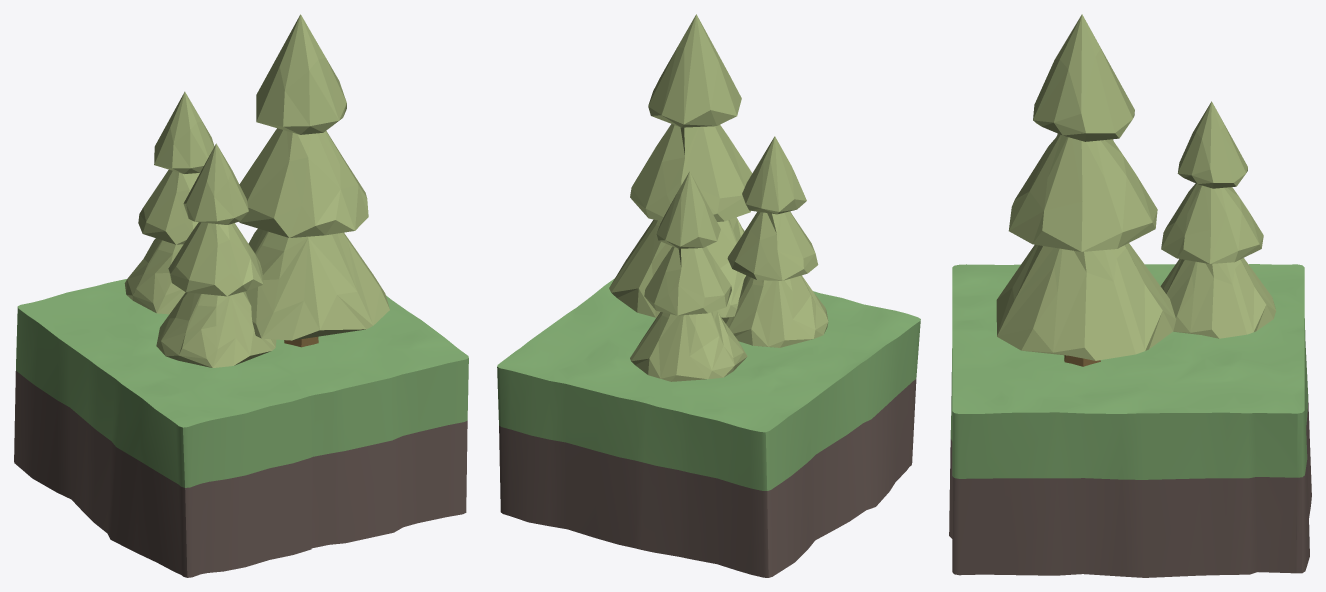
The model's file is tree.fbx.
The picture shows the model from 3 angles, left to right: view 1: azimuth 30°, elevation 25°; view 2: azimuth 150°, elevation 25°; view 3: azimuth 270°, elevation 25°; orthographic projection. The views are drawn at different scales.
Visible parts, largest first — view 1: ground, pokemon:pCylinder1, pCylinder1 (×2); view 2: ground, pCylinder1 (×2), pokemon:pCylinder1; view 3: ground, pokemon:pCylinder1, pCylinder1.
Boxes of the visible parts, x1,y1,x2,y2 form: ground: (14,279,468,577); pokemon:pCylinder1: (239,14,389,340); pCylinder1 (×2): (124,91,276,367); ground: (497,278,920,577); pCylinder1 (×2): (630,136,828,381); pokemon:pCylinder1: (609,14,752,317); ground: (949,264,1311,577); pokemon:pCylinder1: (996,14,1176,360); pCylinder1: (1160,101,1275,338).
Size of the model in its own units: 20.78 by 31.33 by 20.34.
